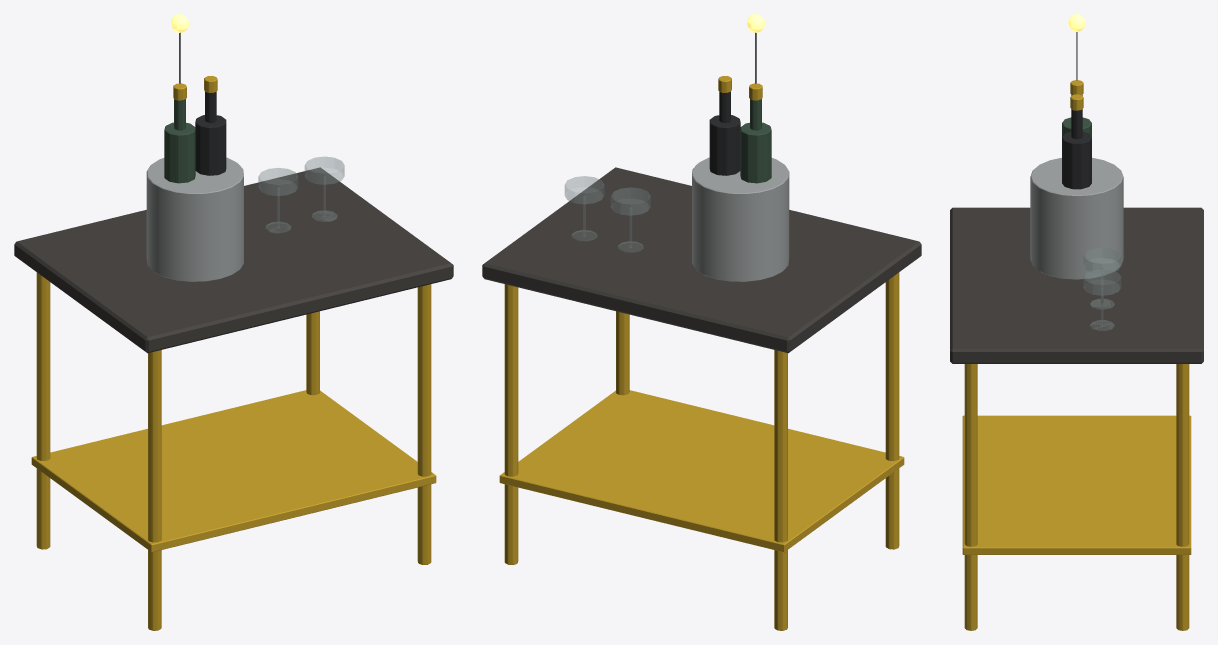
Rendered from prop_ah_bottle_table.glb.
3 renders of one model, left to right at view 1: azimuth 30°, elevation 25°; view 2: azimuth 150°, elevation 25°; view 3: azimuth 270°, elevation 25°, orthographic. The views are drawn at different scales.
Parts seen in each view (by area): view 1: Body; view 2: Body; view 3: Body.
Boxes of the visible parts, x1,y1,x2,y2 form: Body: (14,14,453,630); Body: (482,14,921,630); Body: (950,14,1203,630).
Size of the model in its own units: 0.8 by 1.37 by 0.6.
